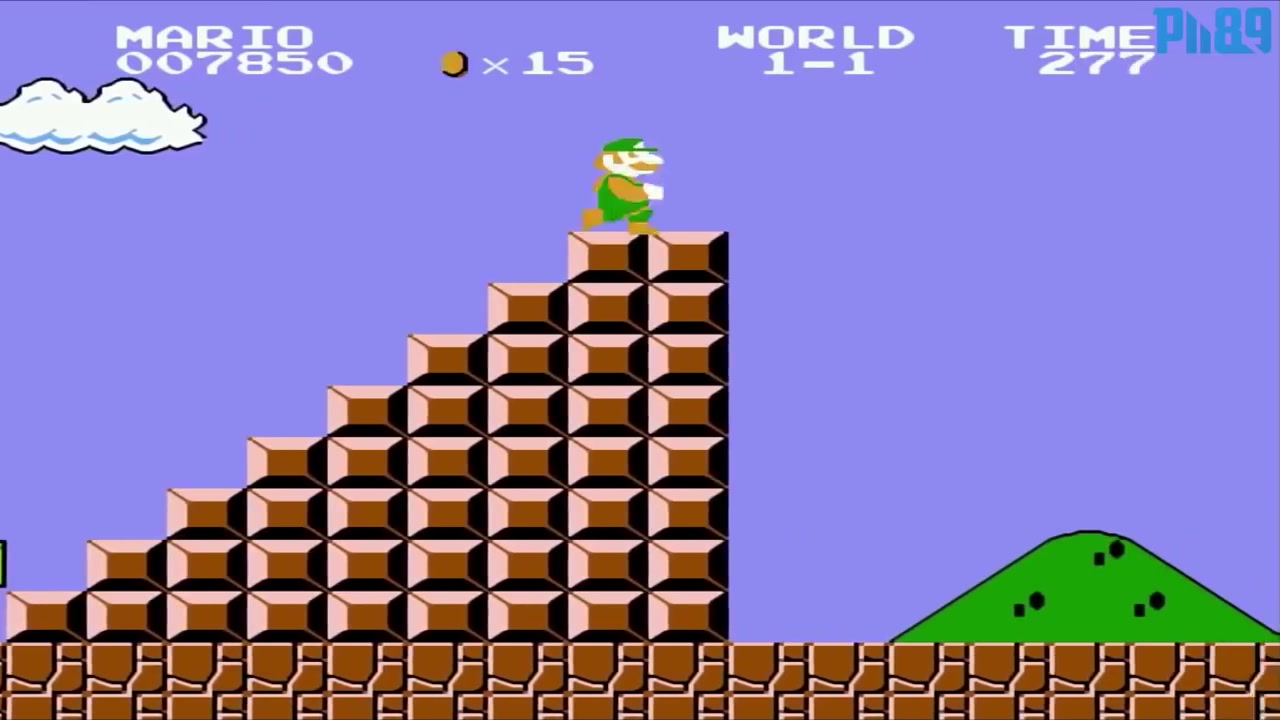mario: (574, 133, 671, 233)
